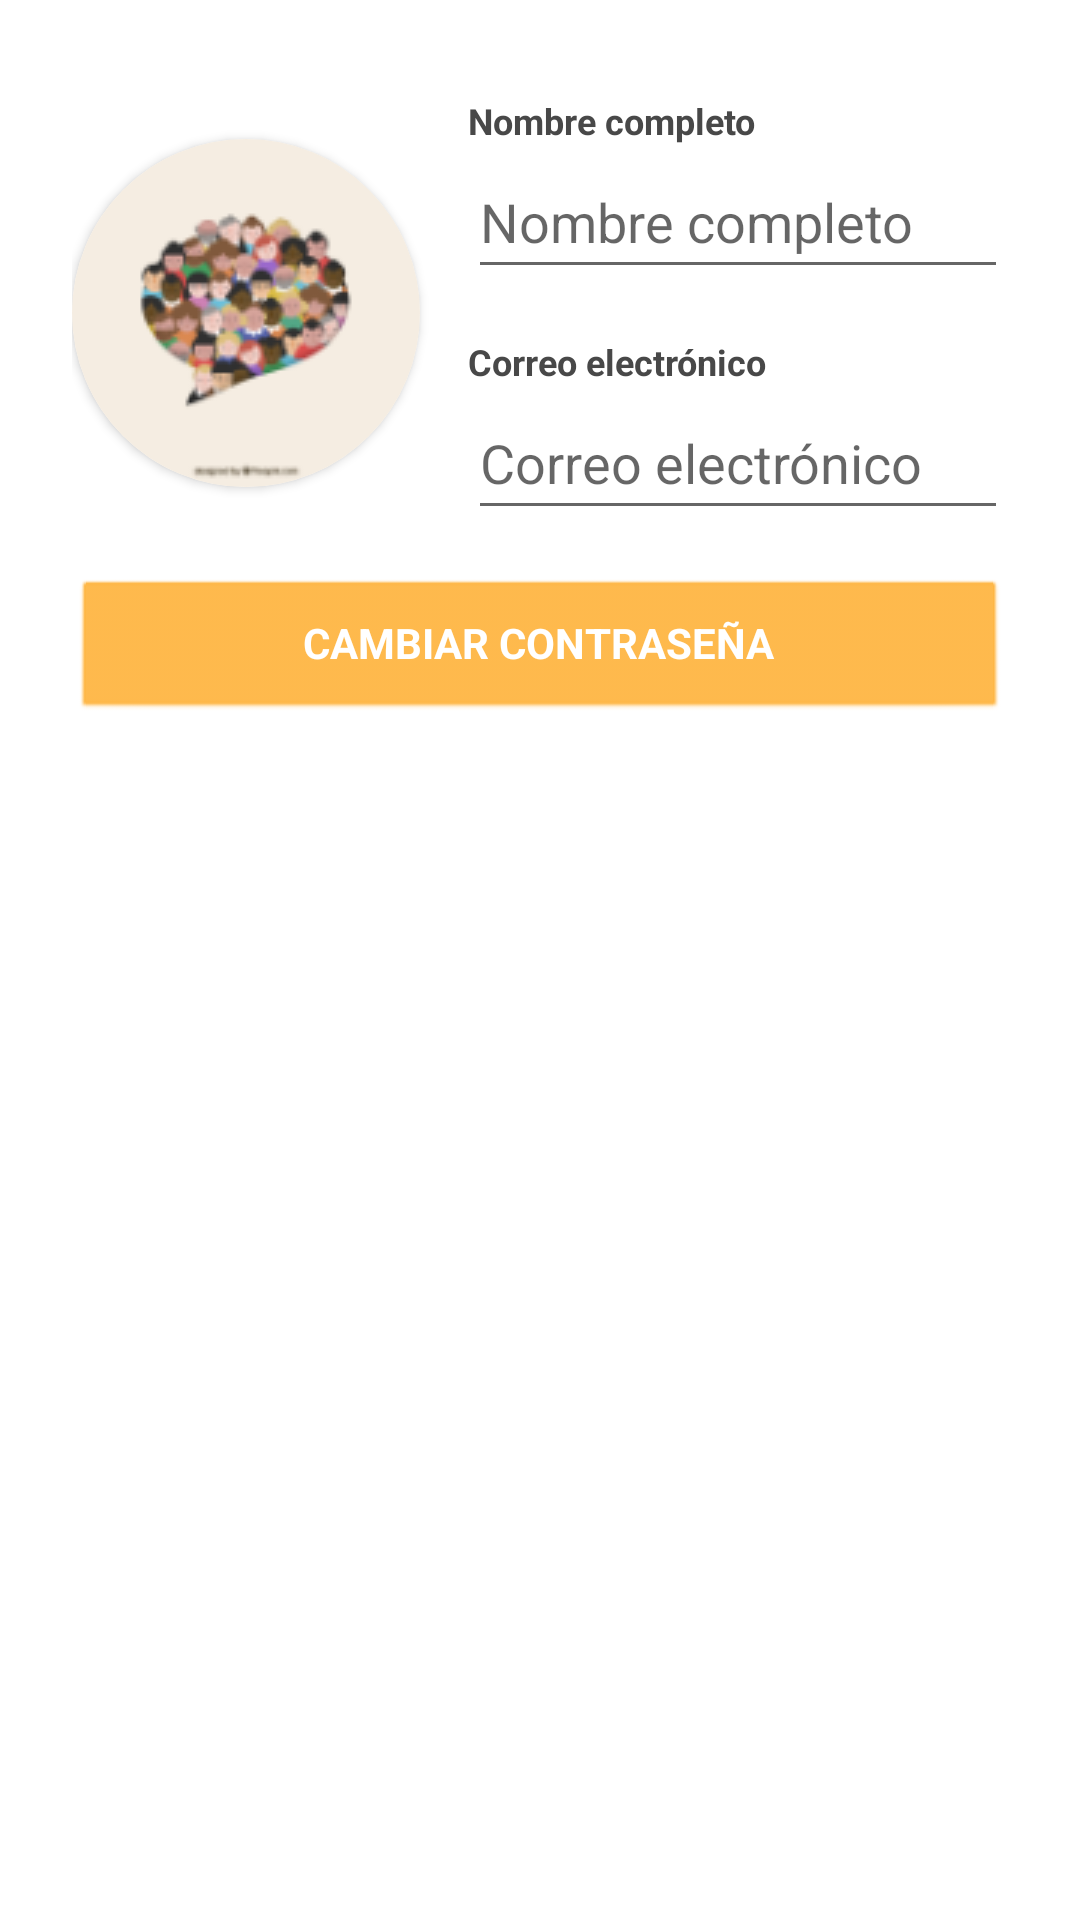

Icons on this 1080 × 1920 Android screen, each with the point to tap as [x,y]:
generic profile: [246,313]
